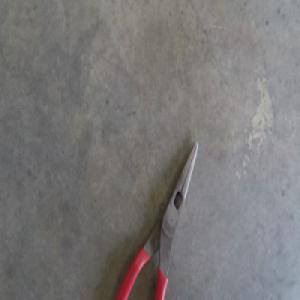Pliers: (117, 140, 199, 298)
